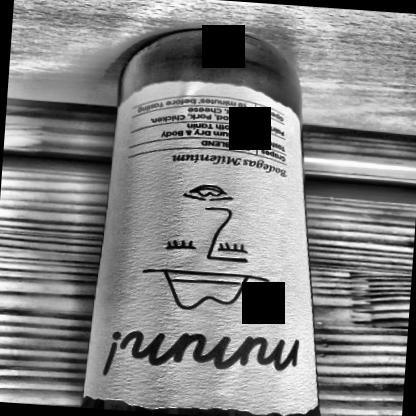umm: (83, 70, 345, 415)
